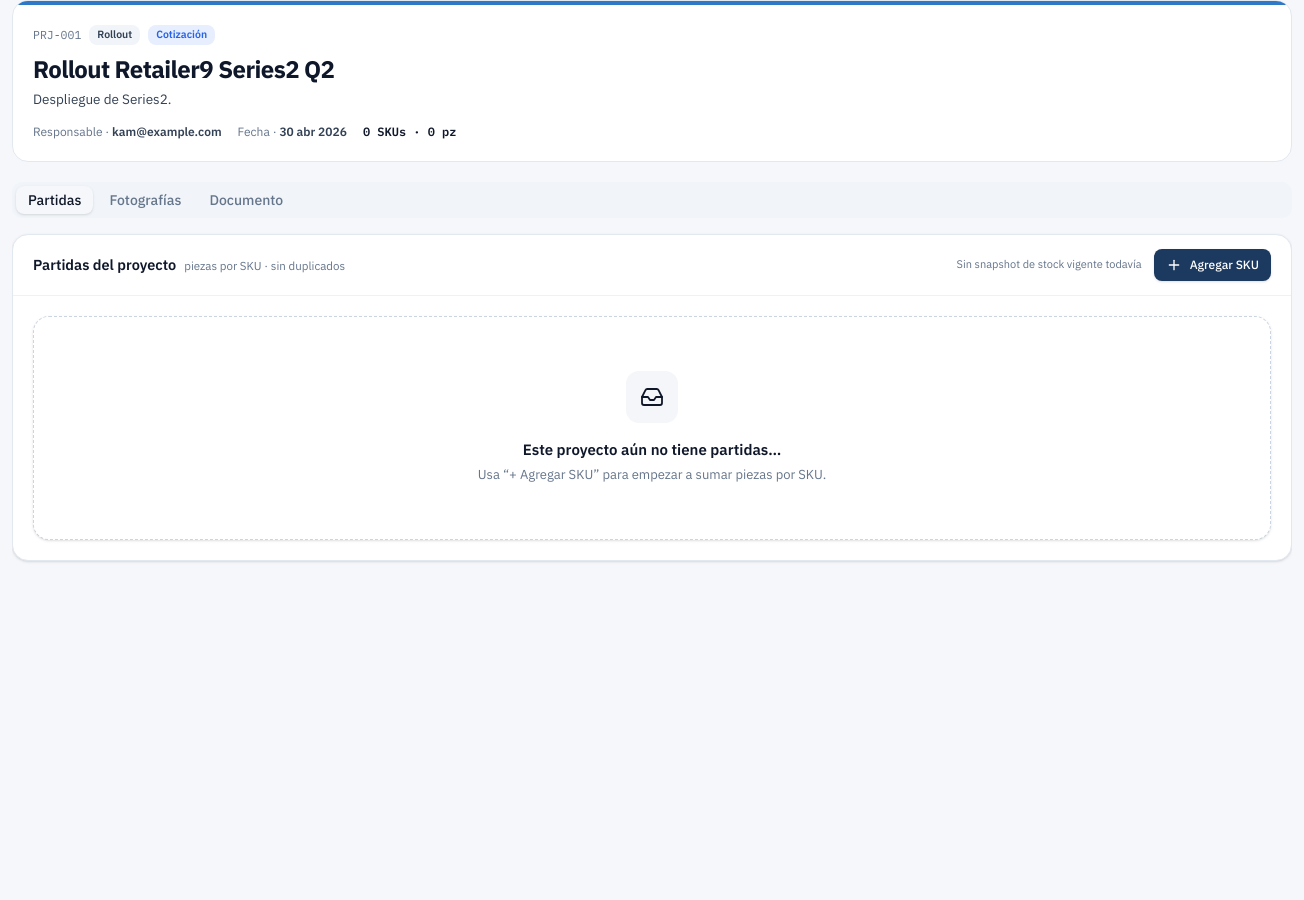
los barridos de a11y también sobre los otros TRES estados del panel de Documento › con el aviso angosto de «Regenerar» fallido (previa buena detrás)
The image size is (1304, 900).
Press the mouse on the tab "Documento" at (246, 200), box [197,186,295,214]
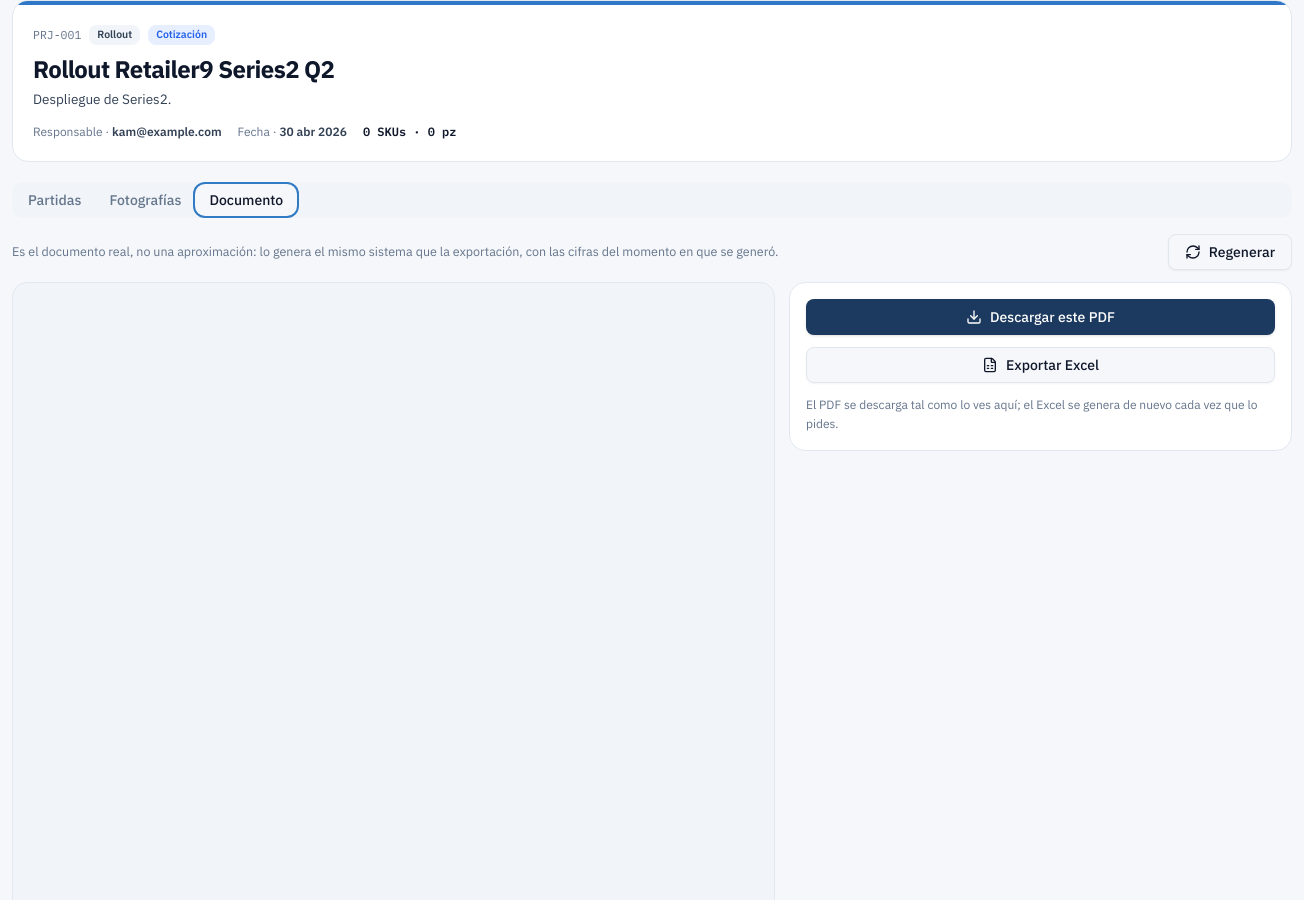
Click the button with aria-label "Regenerar la vista previa" at (1230, 252), box [1168,234,1292,270]
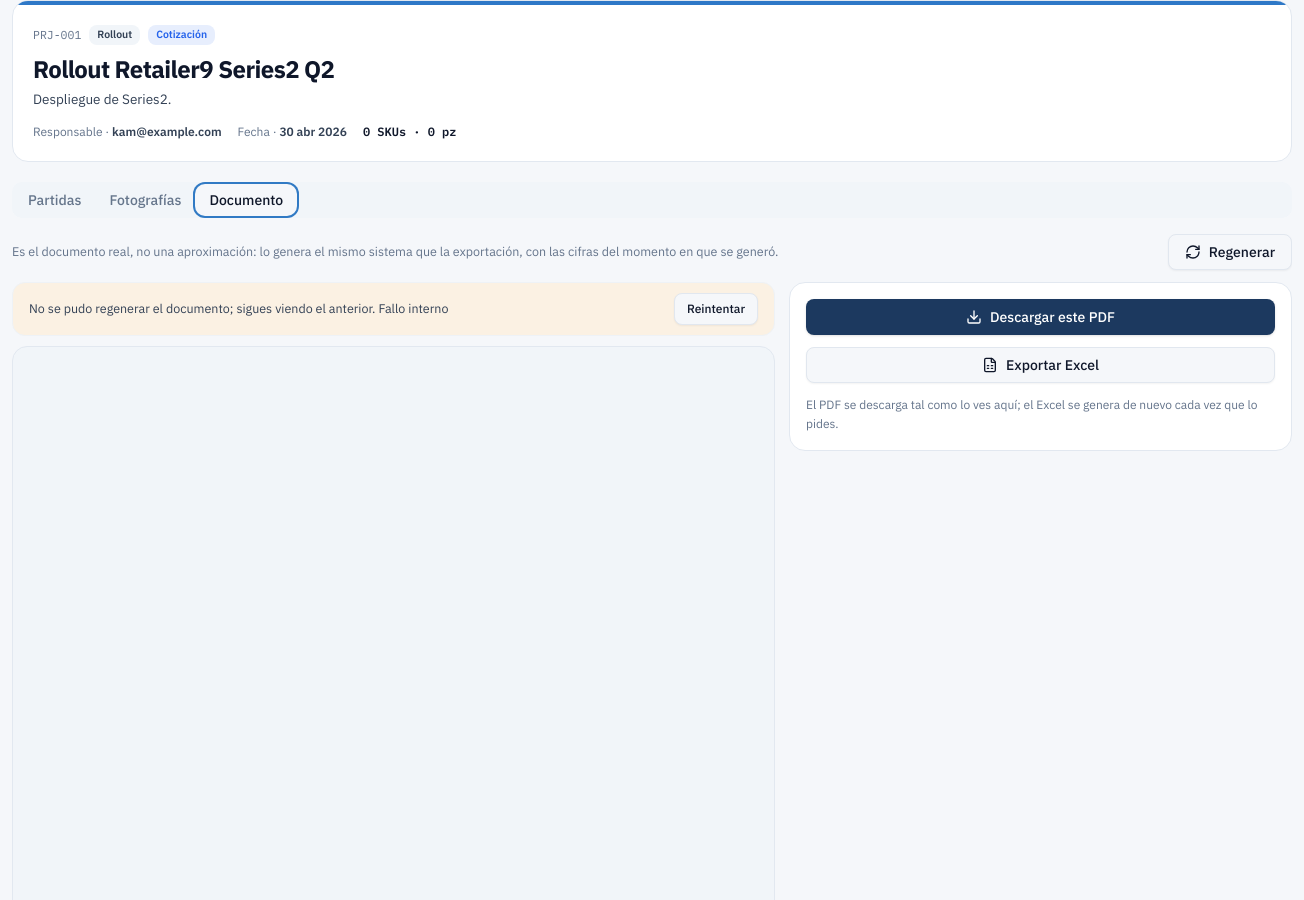
Expected: the message is shown, [12,282,775,336]
